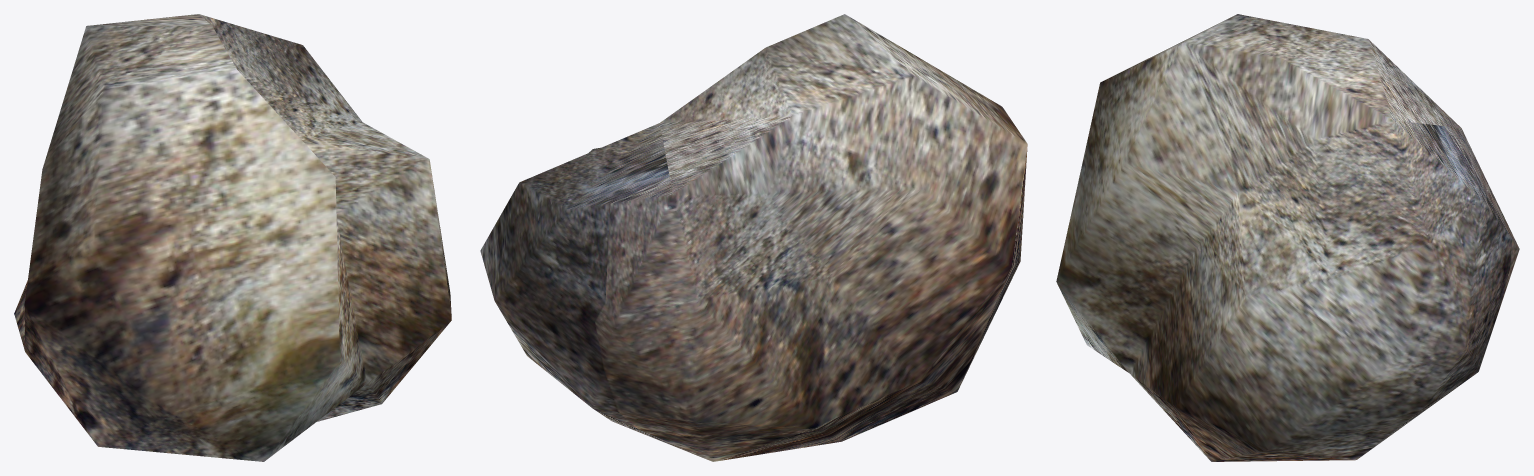
The model's file is rock2.obj.
3 renders of one model, left to right at view 1: azimuth 30°, elevation 25°; view 2: azimuth 150°, elevation 25°; view 3: azimuth 270°, elevation 25°, orthographic. The views are drawn at different scales.
Visible parts, largest first — view 1: Icosphere; view 2: Icosphere; view 3: Icosphere.
Boxes of the visible parts, <box> form: Icosphere: <box>14,14,451,461</box>; Icosphere: <box>480,14,1027,461</box>; Icosphere: <box>1056,14,1519,461</box>.
Bounding box in the file's own units: 2.22 × 1.82 × 2.17.
